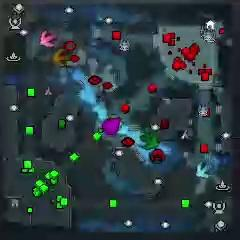p3: (101, 117, 122, 137)
x1: (40, 31, 56, 47)
x3: (195, 162, 213, 179)
x4: (140, 133, 159, 150)
x5: (53, 49, 69, 66)
